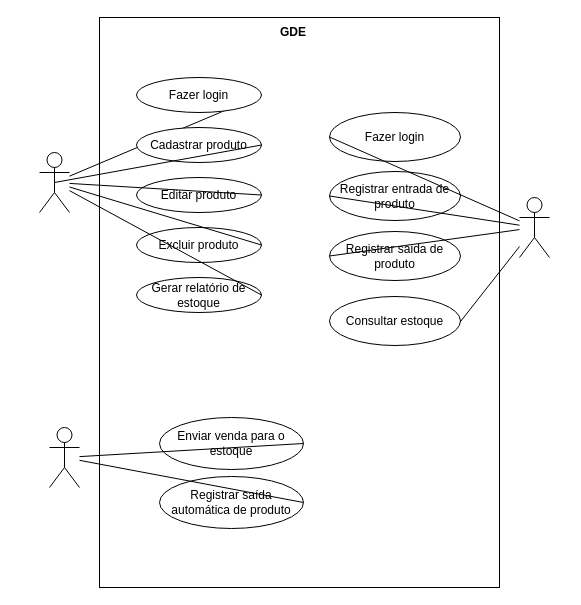
The diagram is 581 pixels wide and 605 high, and some of its shapes have lost their labels. Here are the shapes that lost their labels. From the top down, the centre of each, then its label:
At point 54,182: "Administrador".
At point 534,227: "Operador de estoque".
At point 64,457: "Sistema de Vendas".
